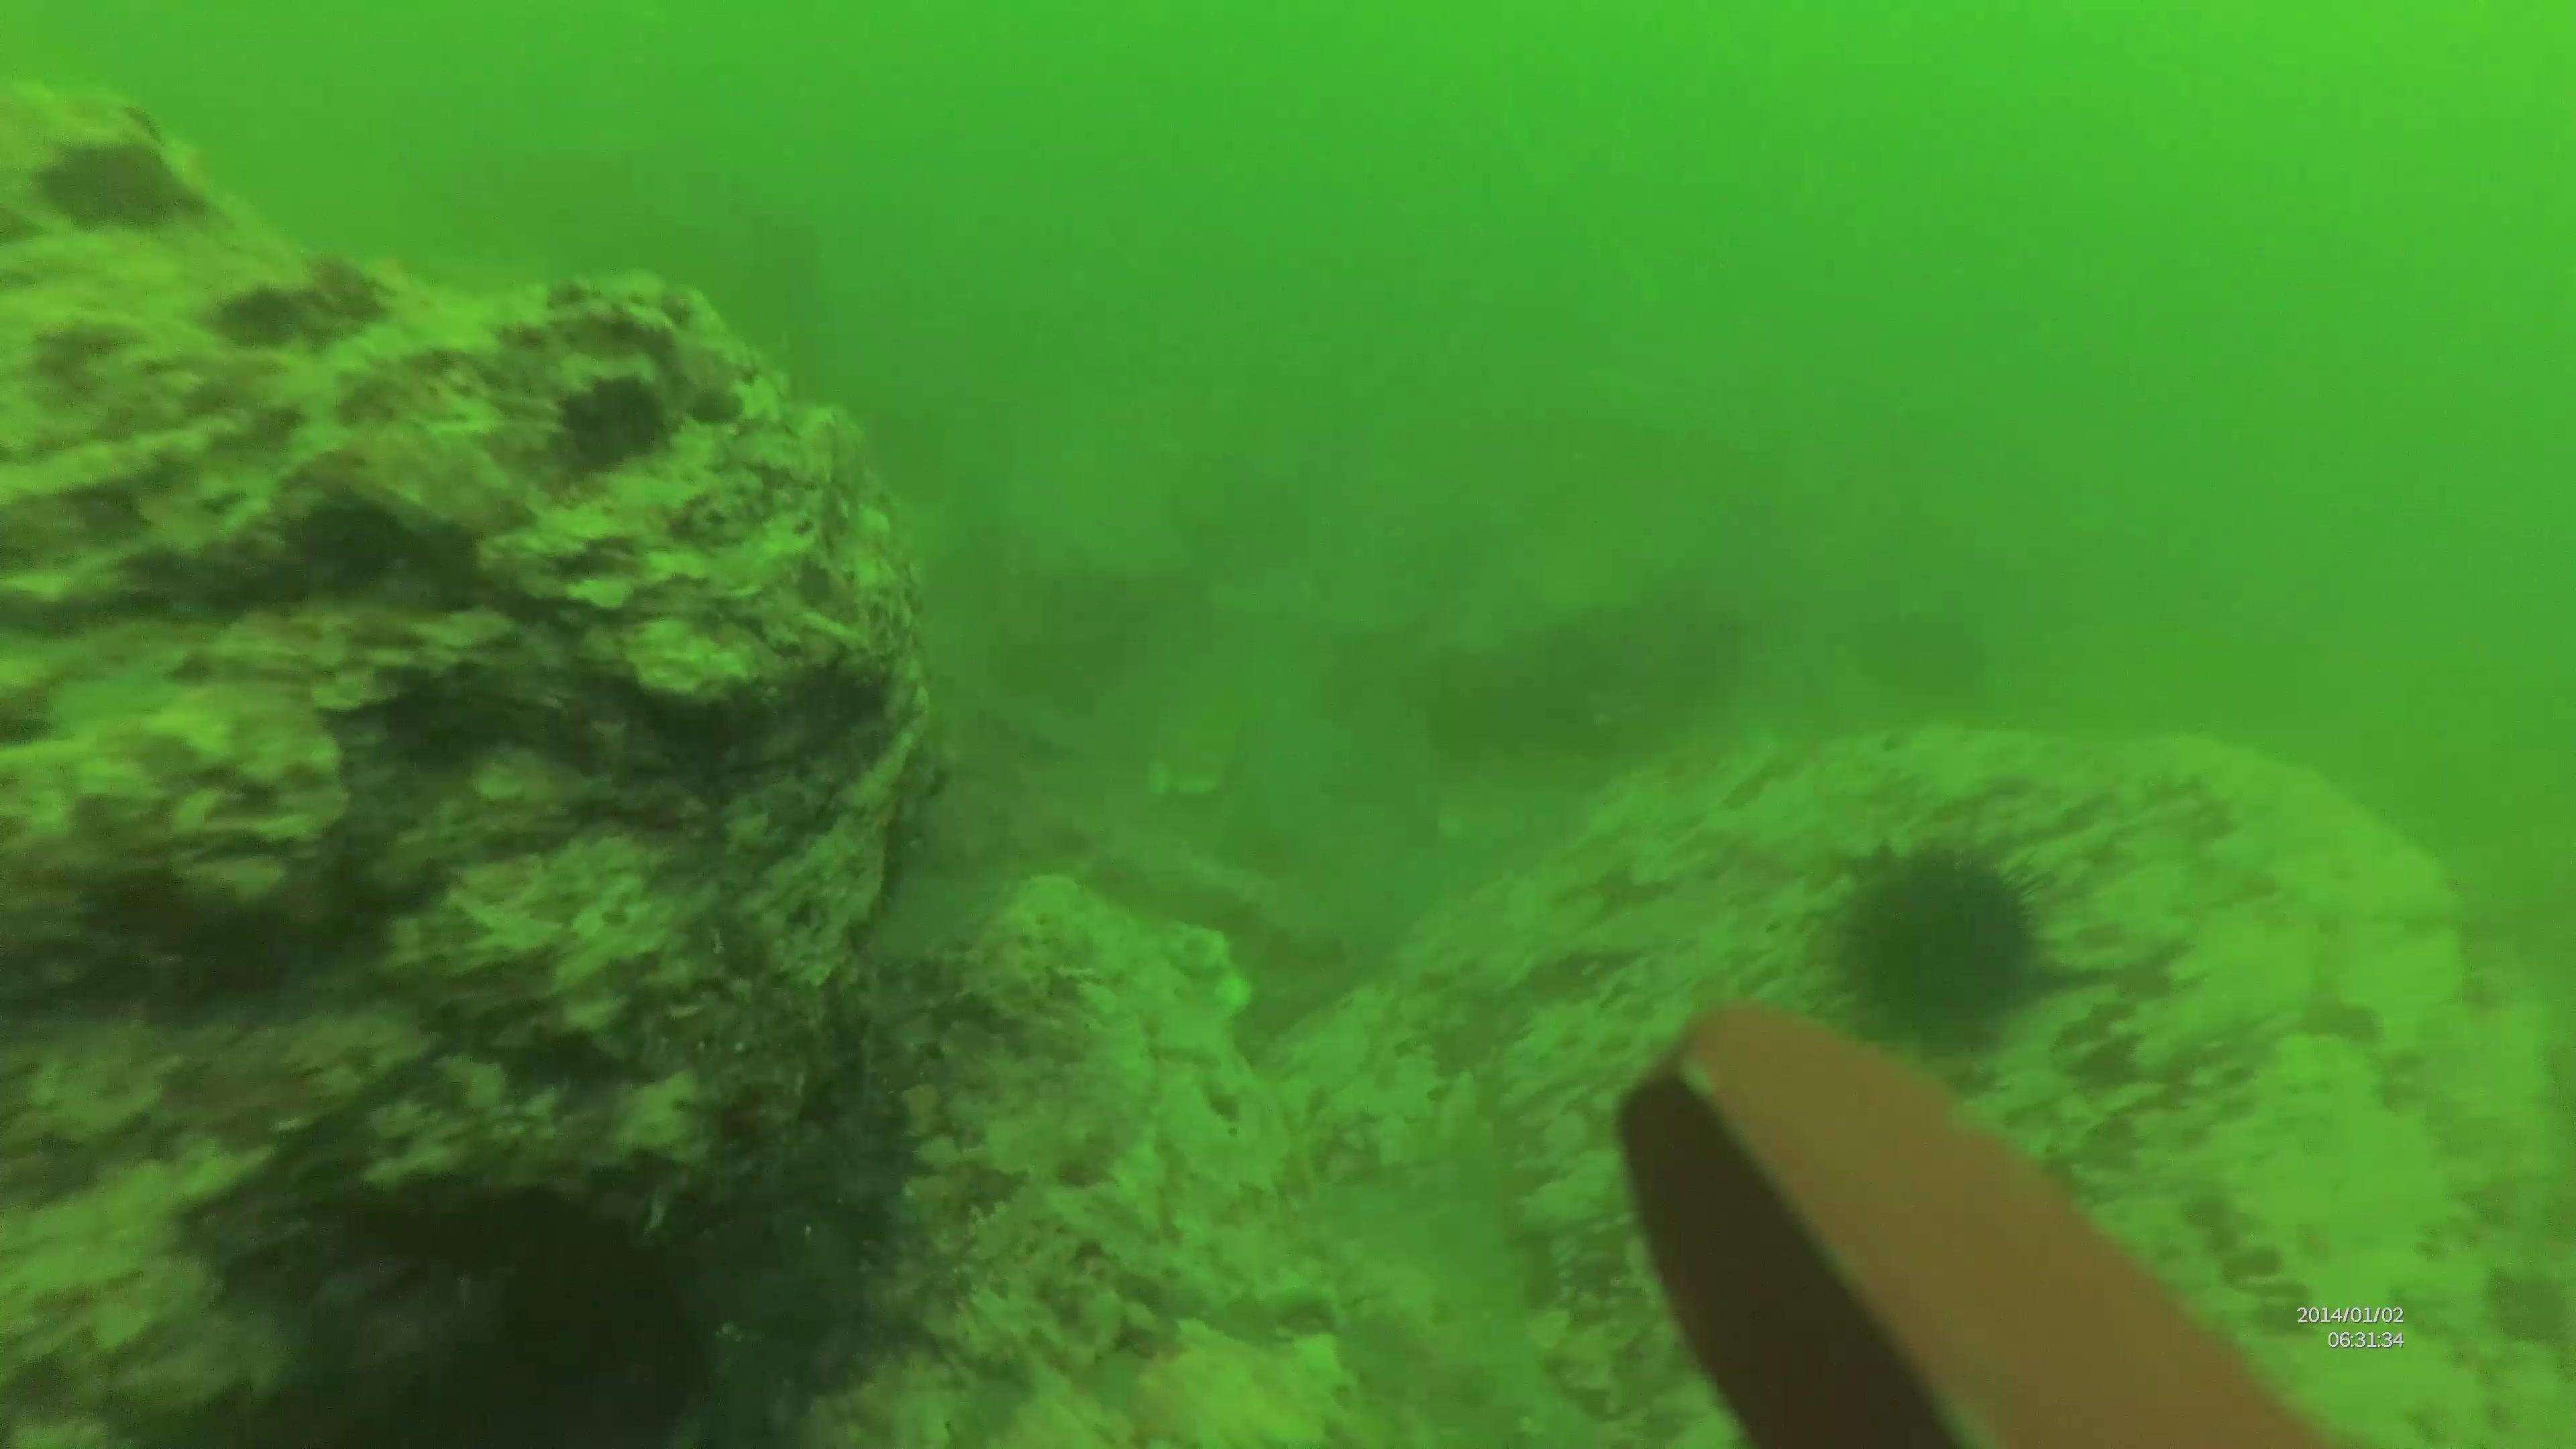echinus: (1792, 816, 2066, 1053)
